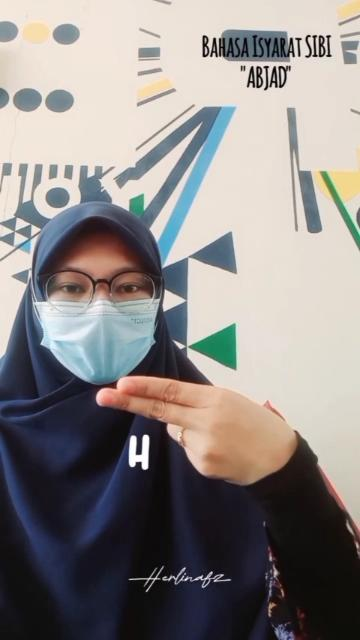H: (94, 372, 304, 478)
